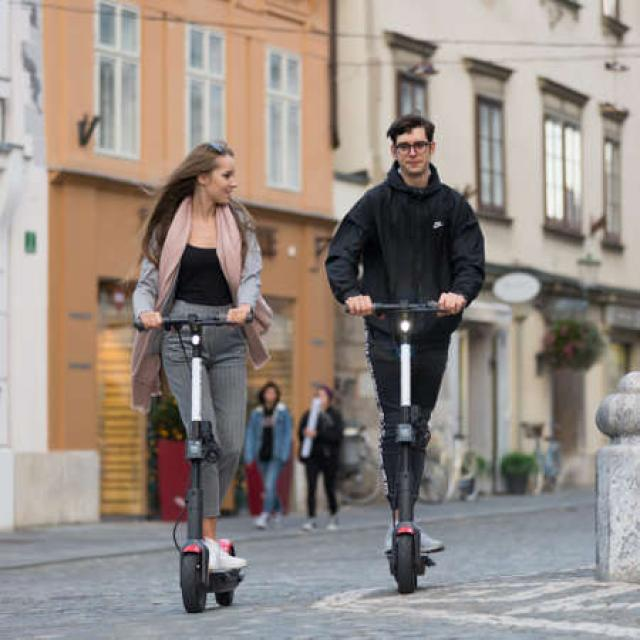non-helmet: (318, 96, 502, 600), (116, 125, 300, 620)
